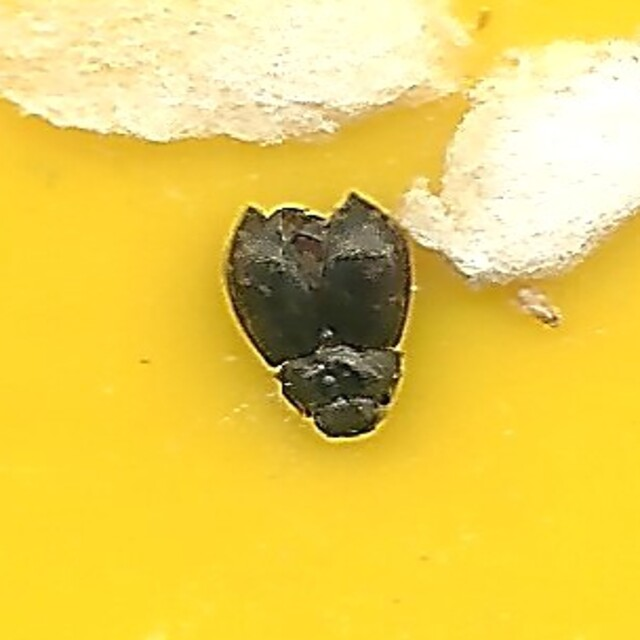Coleoptera: (211, 181, 429, 459)
